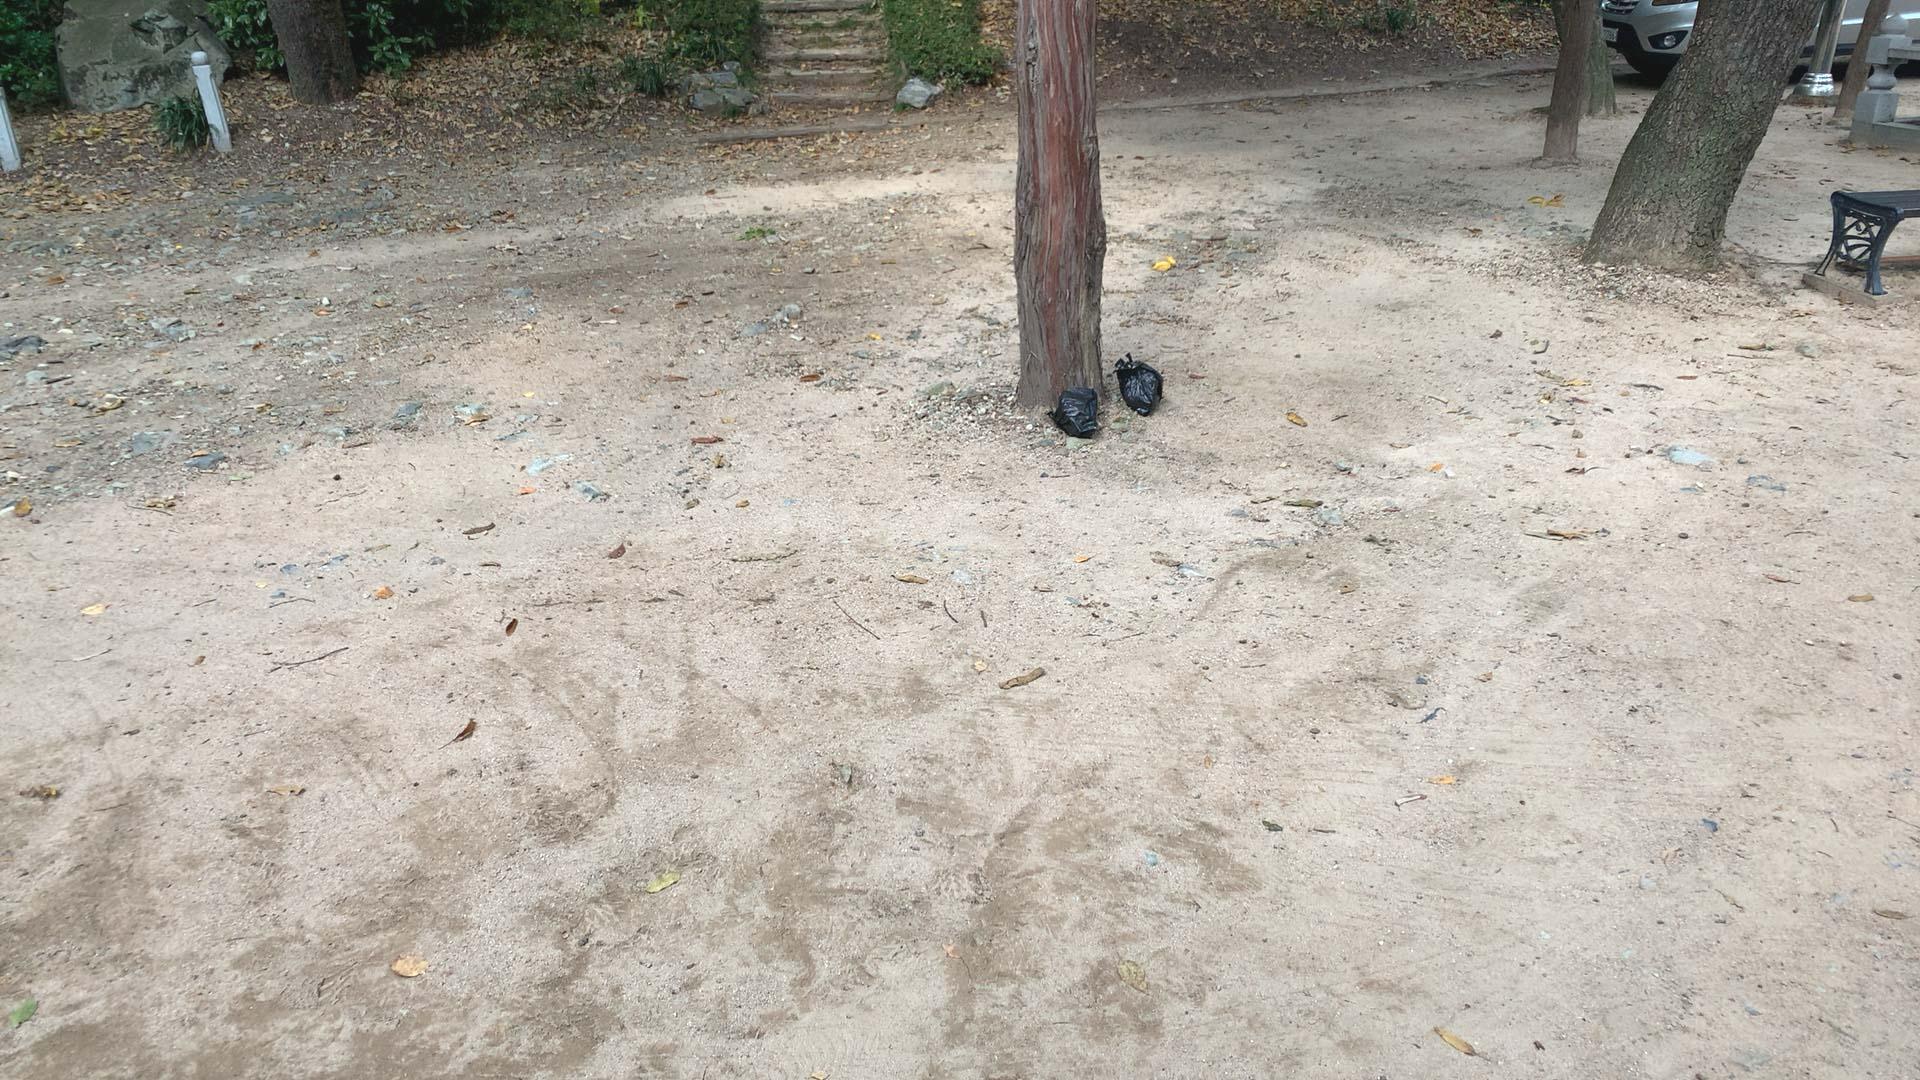black_bag: (1113, 348, 1167, 420), (1045, 381, 1106, 439)
